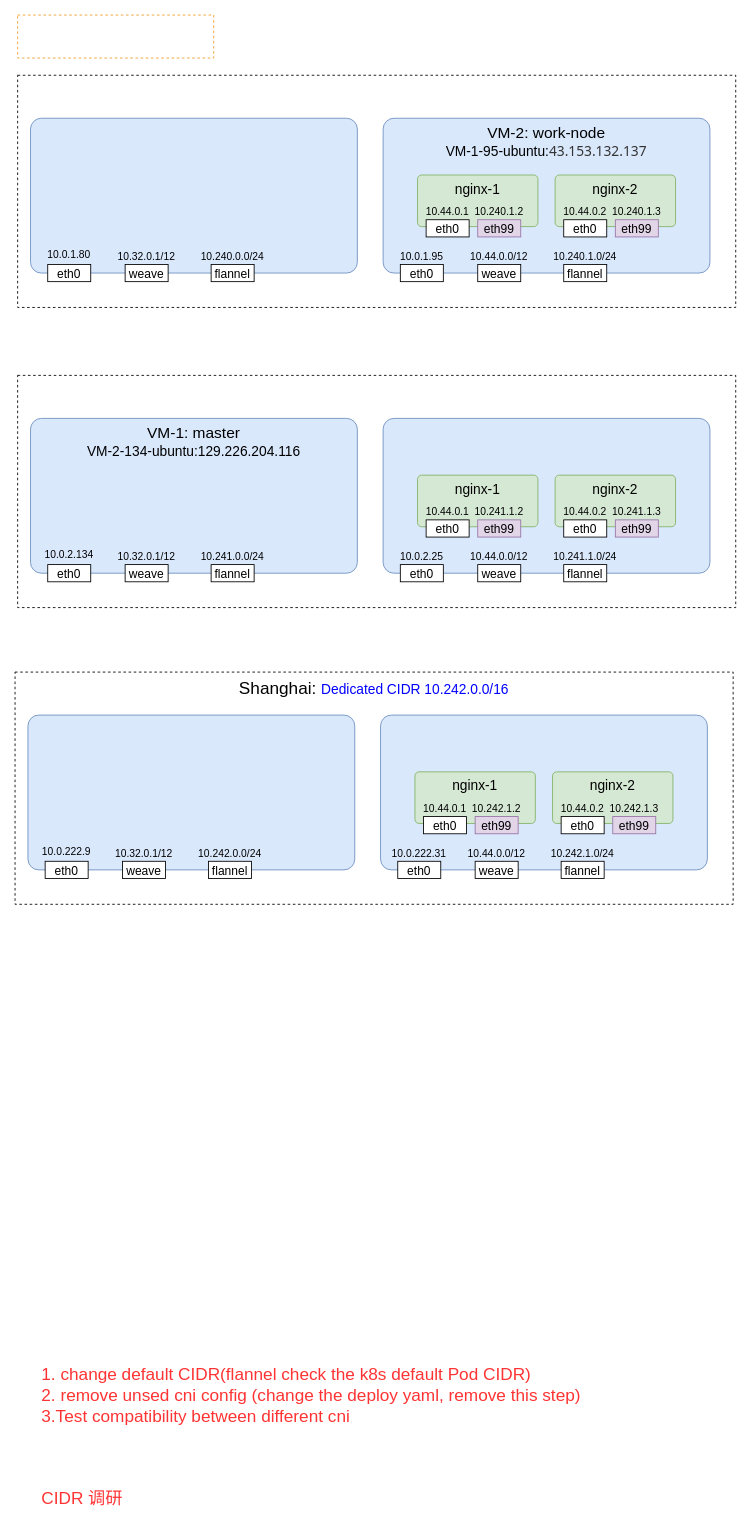
The diagram is 751 pixels wide and 1523 high, and some of its shapes have lost their labels. The shapes that lost their labels are listed below. From the top down, each one's box as (x1, y1, x2, y2) in pixels, then its label:
(17, 14, 214, 58): Global CIDR: 10.240.0.0/12 10.240.0.1 - 10.255.255.254
(30, 117, 357, 273): VM-1: master VM-1-80-ubuntu:43.163.231.133
(17, 74, 736, 307): Tokyo: Dedicated CIDR 10.240.0.0/16
(17, 375, 736, 608): Singapore: Dedicated CIDR 10.241.0.0/16
(382, 418, 710, 573): VM-2: work-node VM-2-25-ubunt u: 43.156.122.205
(27, 714, 355, 870): VM-1: master VM-222-9-ubuntu:124.220.20.106
(380, 714, 707, 870): VM-2: work-node VM-222-31-ubunt u: 124.222.127.246
